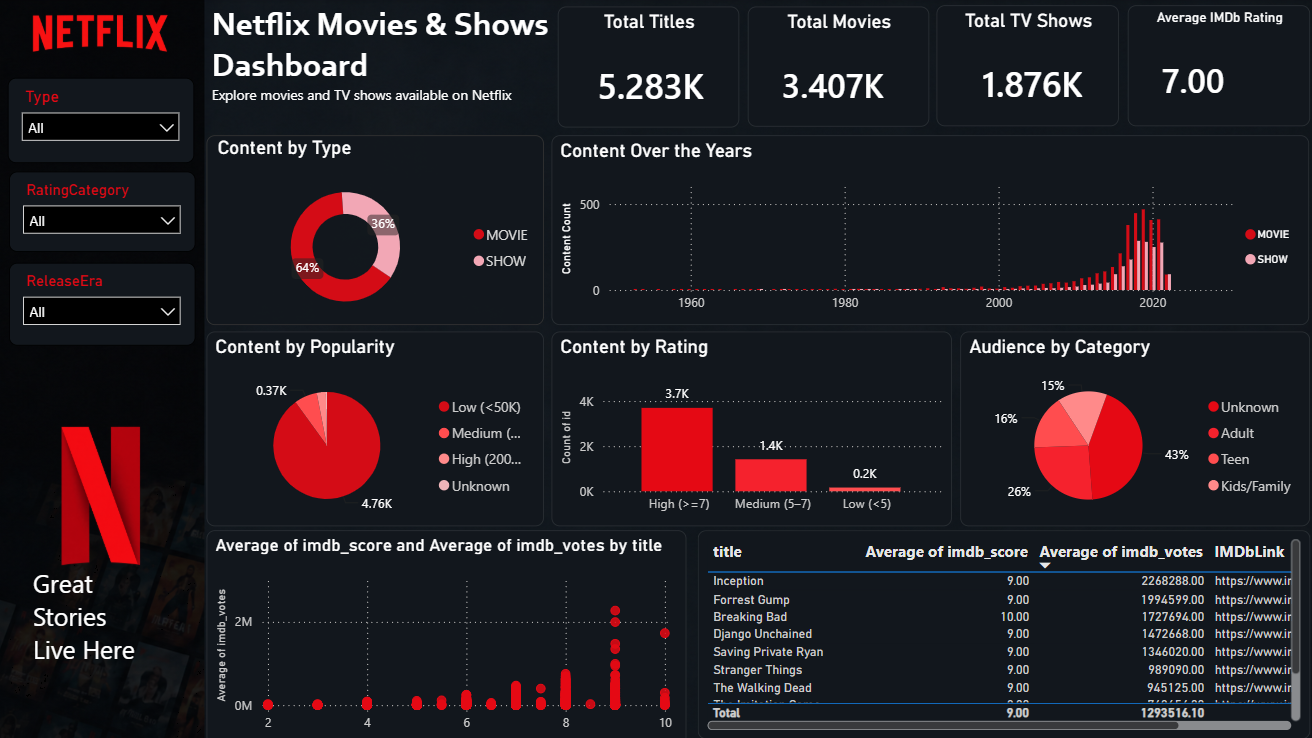

This screenshot's page, from the dashboard's own definition file:
{"tool":"powerbi","page":{"name":"Netflix Movies & Shows Report","canvas":[1280,720],"ordinal":0},"visuals":[{"type":"image","box":[23.8,0,156.6,66.4],"z":0},{"type":"textbox","box":[205.1,0,339,123.1],"z":1000},{"type":"donutChart","title":"Content by Type","fields":{"Category":["Netflix TV Shows and Movies.type"],"Y":["CountNonNull(Netflix TV Shows and Movies.id)"]},"box":[205.1,131.5,325.7,183.4],"z":2000},{"type":"lineClusteredColumnComboChart","title":"Content Over the Years","fields":{"Category":["Netflix TV Shows and Movies.release_year"],"Y":["CountNonNull(Netflix TV Shows and Movies.id)"],"Series":["Netflix TV Shows and Movies.type"]},"box":[538.1,131.5,731,183.4],"z":3000},{"type":"pieChart","title":"Audience by Category","fields":{"Category":["Netflix TV Shows and Movies.AudienceCategory"],"Y":["CountNonNull(Netflix TV Shows and Movies.id)"]},"box":[932.6,320.9,337.8,188.2],"z":4000},{"type":"clusteredColumnChart","title":"Content by Rating","fields":{"Category":["Netflix TV Shows and Movies.RatingCategory"],"Y":["CountNonNull(Netflix TV Shows and Movies.id)"]},"box":[538.1,320.9,386.1,188.2],"z":5000},{"type":"pieChart","title":"Content by Popularity","fields":{"Category":["Netflix TV Shows and Movies.PopularityCategory"],"Y":["CountNonNull(Netflix TV Shows and Movies.id)"]},"box":[205.1,320.9,325.7,188.2],"z":6000},{"type":"scatterChart","fields":{"X":["Avg(Netflix TV Shows and Movies.imdb_score)"],"Y":["Avg(Netflix TV Shows and Movies.imdb_votes)"],"Category":["Netflix TV Shows and Movies.title"]},"box":[205.1,512.7,463.3,207.5],"z":7000},{"type":"tableEx","fields":{"Values":["Netflix TV Shows and Movies.title","Avg(Netflix TV Shows and Movies.imdb_score)","Avg(Netflix TV Shows and Movies.imdb_votes)","Netflix TV Shows and Movies.IMDbLink"]},"box":[679.2,512.7,590.9,201.8],"z":8000},{"type":"cardVisual","title":"Total Titles","fields":{"Data":["Count(Netflix TV Shows and Movies.id)"]},"box":[544.1,7.2,174.9,117],"z":9000},{"type":"cardVisual","title":"Total Movies","fields":{"Data":["CountNonNull(Netflix TV Shows and Movies.id)"]},"box":[727.5,7.2,174.9,115.8],"z":10000},{"type":"cardVisual","title":"Average IMDb Rating","fields":{"Data":["Avg(Netflix TV Shows and Movies.imdb_score)"]},"box":[1094.2,6,176.1,117],"z":11000},{"type":"cardVisual","title":"Total TV Shows","fields":{"Data":["Count(Netflix TV Shows and Movies.id)"]},"box":[909.7,6,176.1,117],"z":12000},{"type":"slicer","fields":{"Values":["Netflix TV Shows and Movies.type"]},"box":[13.3,76,179.8,82],"z":13000},{"type":"slicer","fields":{"Values":["Netflix TV Shows and Movies.RatingCategory"]},"box":[14.5,166.5,179.8,77.2],"z":14000},{"type":"slicer","fields":{"Values":["Netflix TV Shows and Movies.ReleaseEra"]},"box":[14.5,254.6,179.8,79.6],"z":15000},{"type":"image","box":[13.3,352.3,179.8,252.1],"z":16000},{"type":"textbox","box":[32.6,542.9,118.2,123.1],"z":17000}]}

Visuals, with their boxes in screenshot pixels (x1, y1, x2, y2), scaled from the page's 1280x720 canvas onto the 1312x738 screenshot:
image: (x1=24, y1=0, x2=185, y2=68)
textbox: (x1=210, y1=0, x2=558, y2=126)
"Content by Type" donutChart: (x1=210, y1=135, x2=544, y2=323)
"Content Over the Years" lineClusteredColumnComboChart: (x1=552, y1=135, x2=1301, y2=323)
"Audience by Category" pieChart: (x1=956, y1=329, x2=1302, y2=522)
"Content by Rating" clusteredColumnChart: (x1=552, y1=329, x2=947, y2=522)
"Content by Popularity" pieChart: (x1=210, y1=329, x2=544, y2=522)
scatterChart - Avg(Netflix TV Shows and Movies.imdb_score) x Avg(Netflix TV Shows and Movies.imdb_votes): (x1=210, y1=526, x2=685, y2=737)
tableEx - Netflix TV Shows and Movies.title x Avg(Netflix TV Shows and Movies.imdb_score): (x1=696, y1=526, x2=1302, y2=732)
"Total Titles" cardVisual: (x1=558, y1=7, x2=737, y2=127)
"Total Movies" cardVisual: (x1=746, y1=7, x2=925, y2=126)
"Average IMDb Rating" cardVisual: (x1=1122, y1=6, x2=1302, y2=126)
"Total TV Shows" cardVisual: (x1=932, y1=6, x2=1113, y2=126)
slicer - Netflix TV Shows and Movies.type: (x1=14, y1=78, x2=198, y2=162)
slicer - Netflix TV Shows and Movies.RatingCategory: (x1=15, y1=171, x2=199, y2=250)
slicer - Netflix TV Shows and Movies.ReleaseEra: (x1=15, y1=261, x2=199, y2=343)
image: (x1=14, y1=361, x2=198, y2=620)
textbox: (x1=33, y1=556, x2=155, y2=683)
